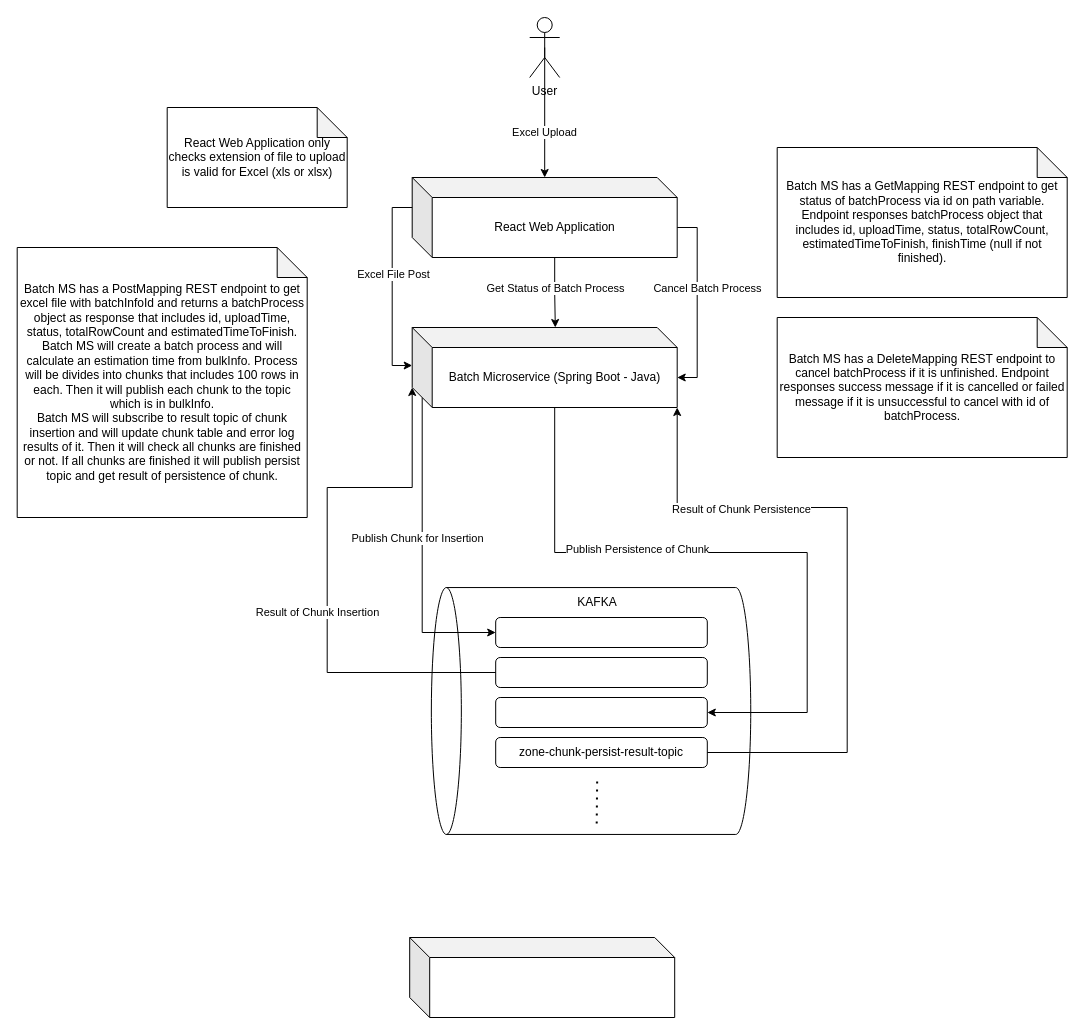
This 1085x1035 diagram has some shape labels left out. Each missing label, with the centre of its shape:
"Zone Microservice (Spring Boot - Java)" goes at pixel 542 977.
"zone-chunk-insert-result-topic" goes at pixel 601 672.
"zone-chunk-insert-topic" goes at pixel 601 632.
"zone-chunk-persist-topic" goes at pixel 601 712.
